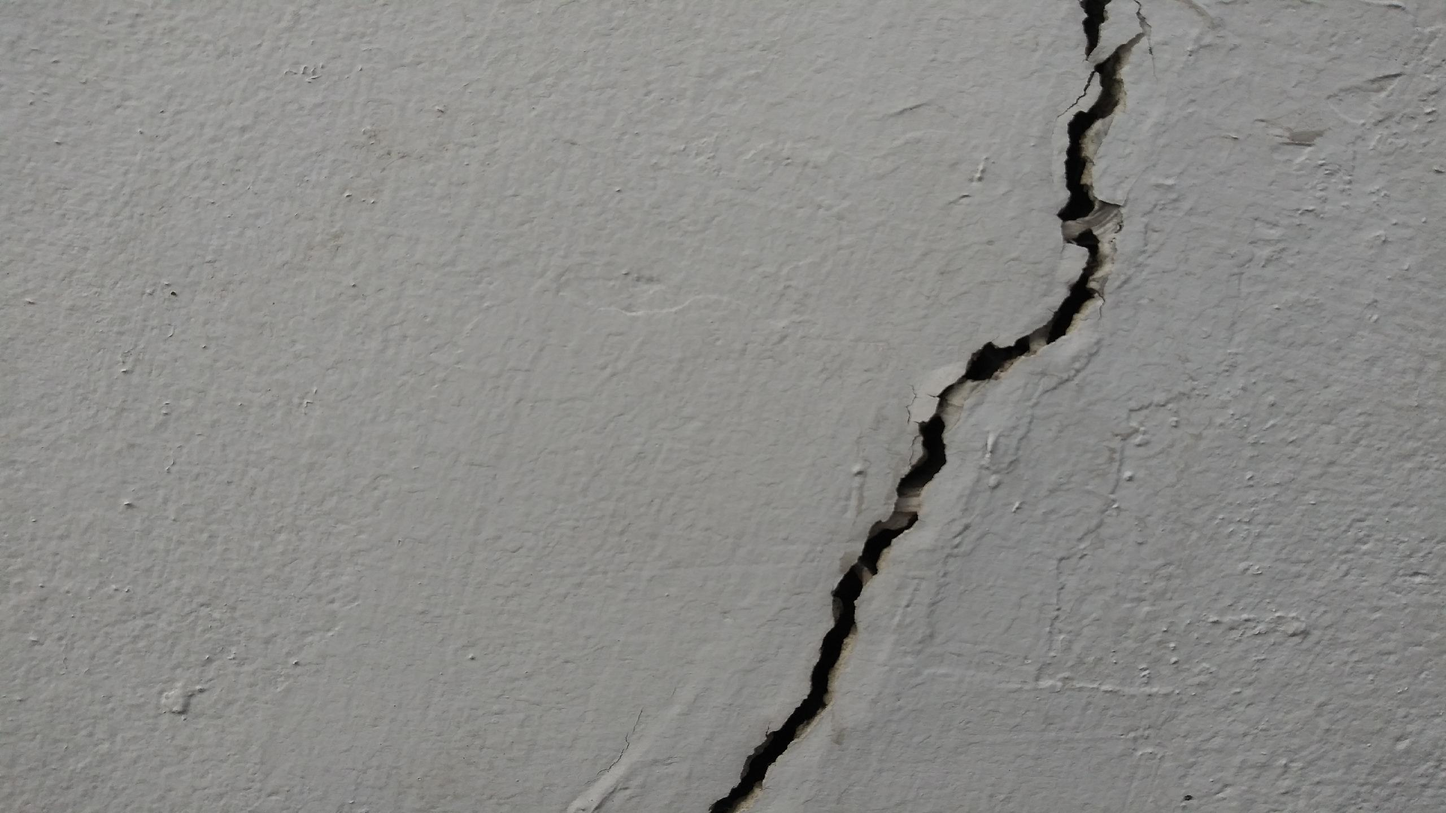crack: (705, 2, 1159, 808)
